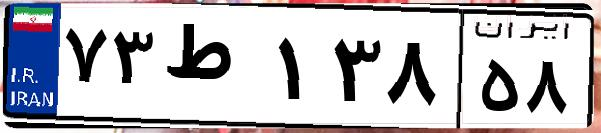1: (270, 28, 330, 110)
3: (330, 28, 385, 110), (110, 28, 158, 98)
5: (475, 38, 525, 113)
7: (57, 26, 110, 100)
8: (385, 28, 445, 110), (525, 38, 570, 115)
ط: (158, 20, 270, 120)
